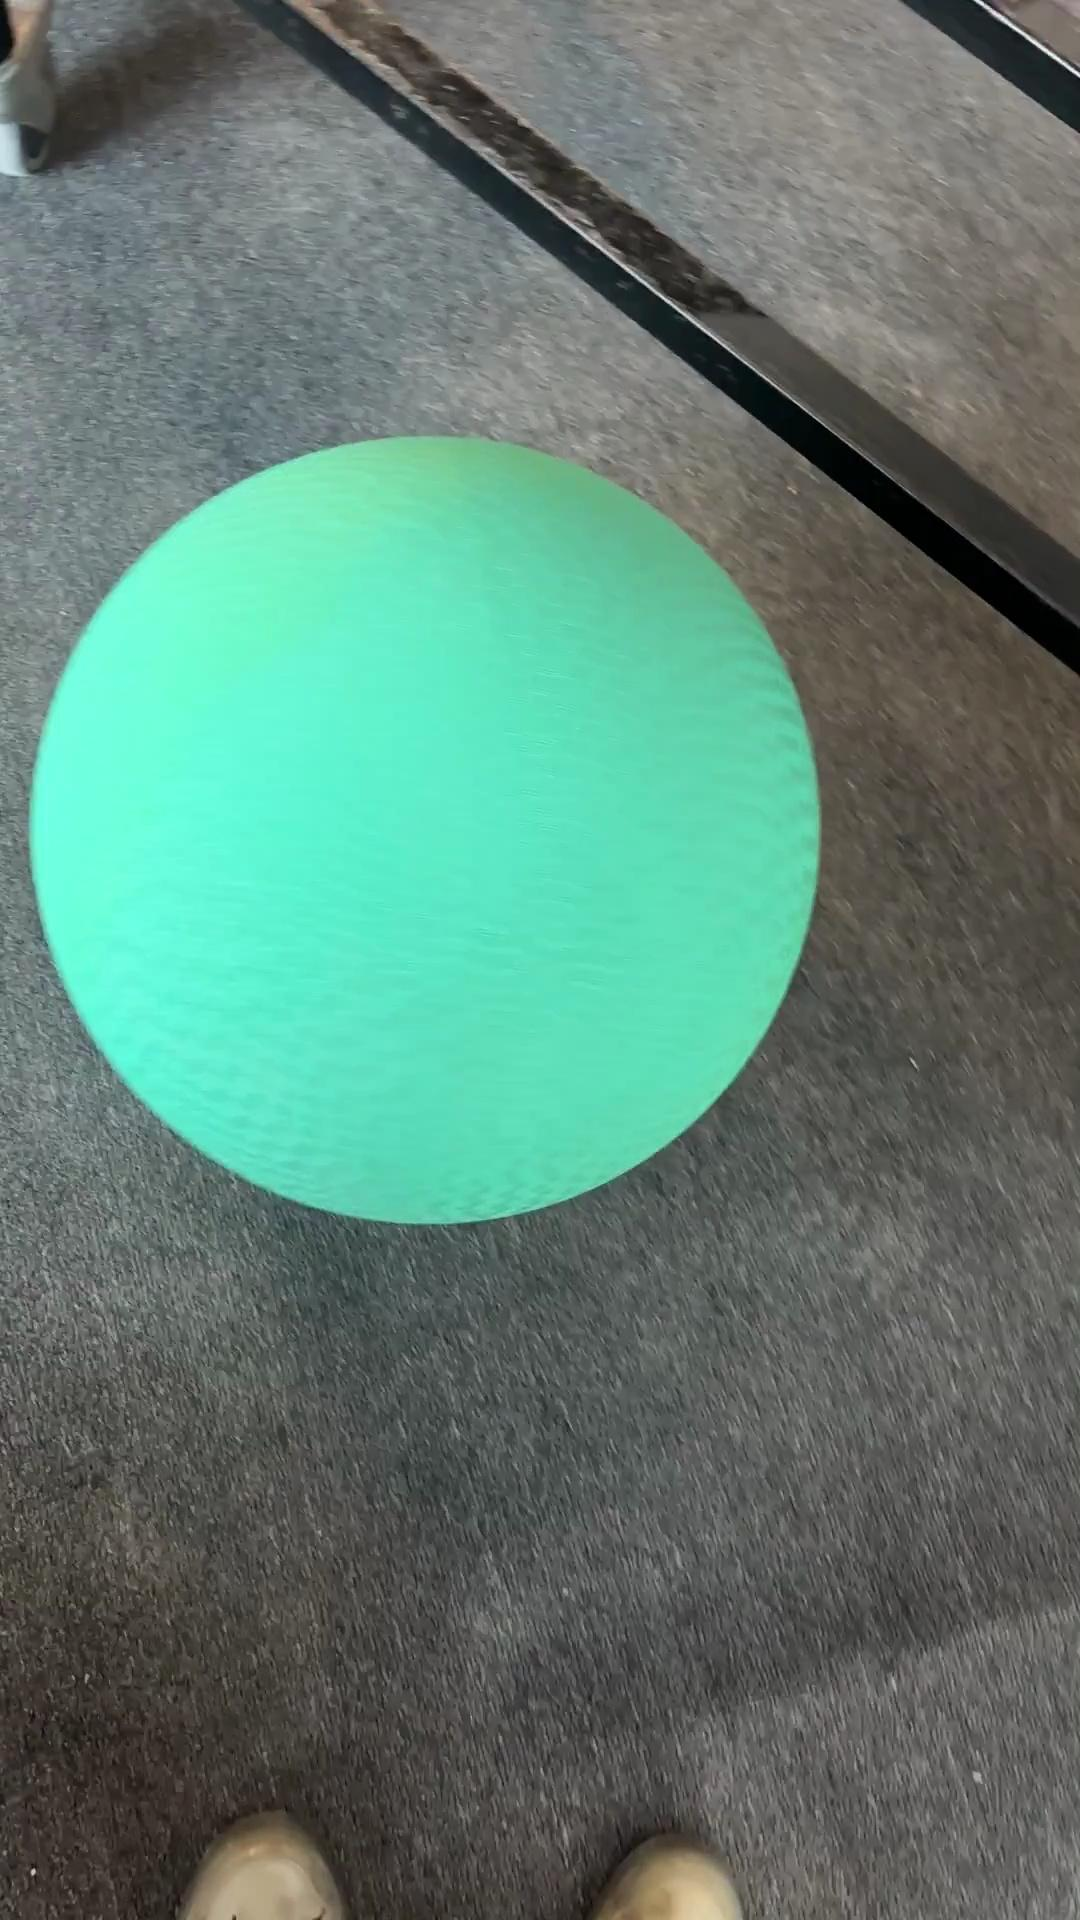ALGAE: (26, 431, 824, 1228)
